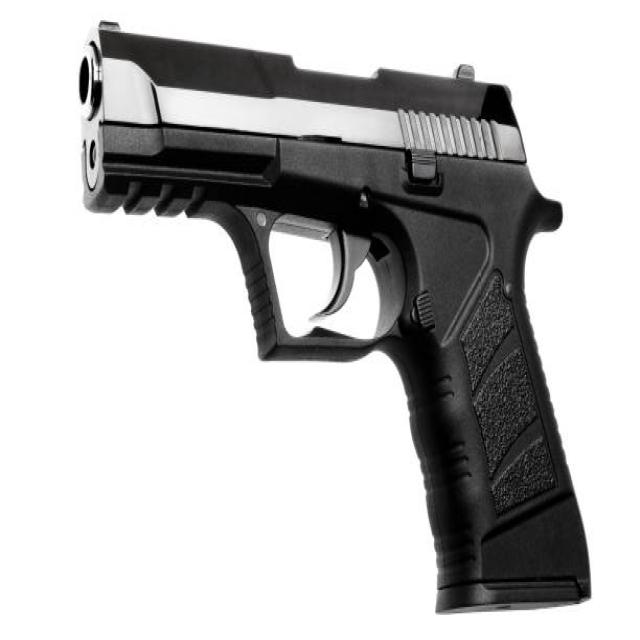pistol: (73, 12, 597, 624)
